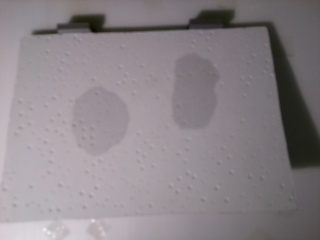Water_detected: (76, 97, 131, 148), (180, 69, 220, 125)
